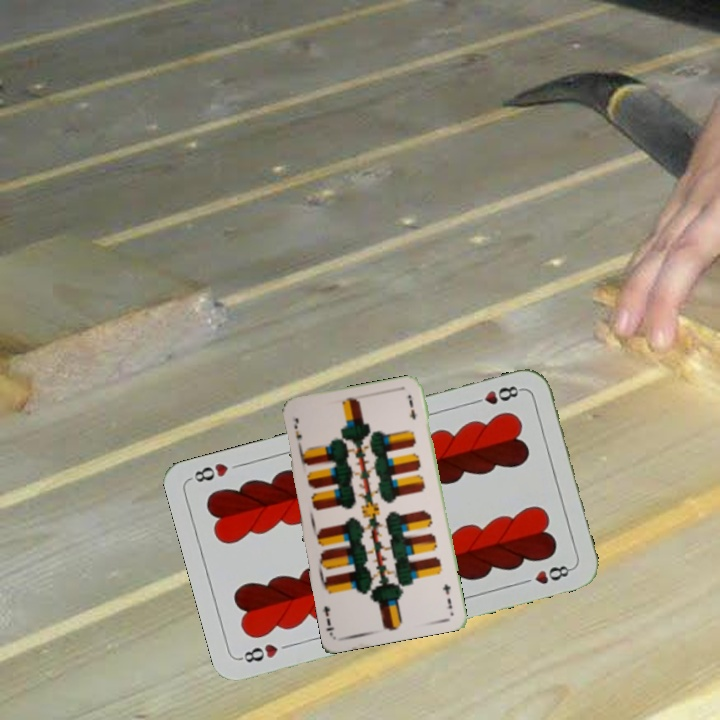E7: (290, 414, 304, 452), (438, 580, 454, 611)
H8: (467, 381, 525, 408), (236, 639, 281, 666)
